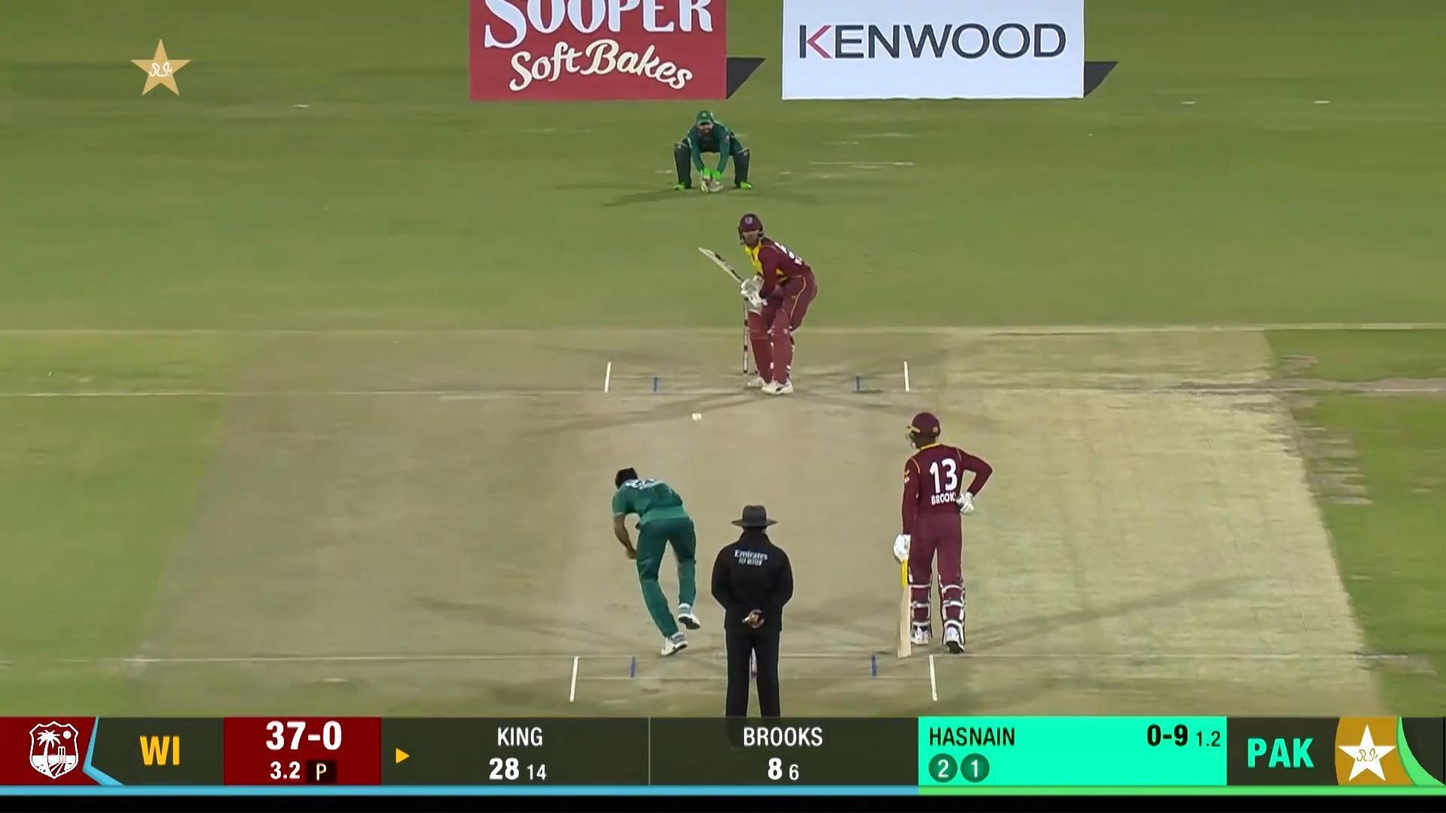BM 1: (696, 213, 818, 397)
BO: (611, 467, 703, 655)
